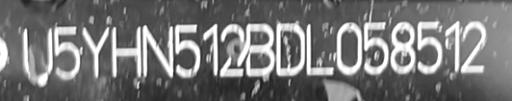letter: (18, 22, 54, 87), (142, 22, 176, 81), (52, 22, 82, 83), (274, 21, 306, 78), (243, 22, 275, 79), (110, 24, 142, 81), (334, 19, 364, 78), (80, 22, 110, 81), (304, 22, 336, 77), (415, 19, 445, 76), (361, 20, 391, 77), (388, 20, 418, 77), (173, 21, 201, 80), (459, 19, 489, 74), (218, 23, 244, 78), (442, 18, 462, 73), (200, 22, 220, 75)
